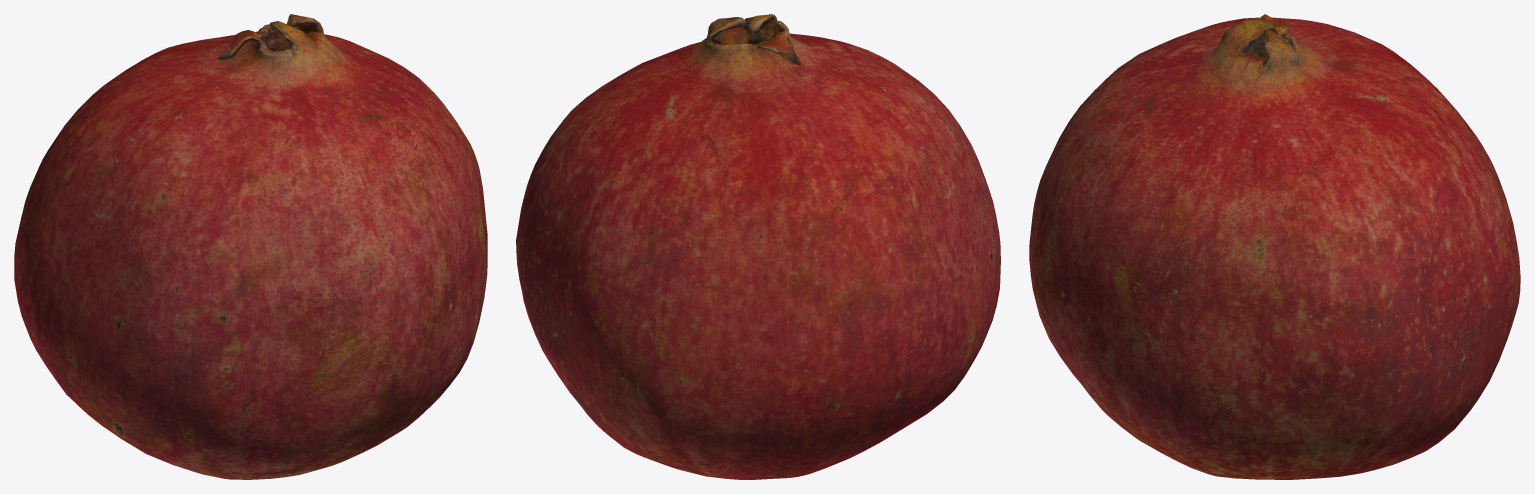
File: pomegranate.glb
3 views of the same model, side by side, from view 1: azimuth 30°, elevation 25°; view 2: azimuth 150°, elevation 25°; view 3: azimuth 270°, elevation 25° (orthographic). The views are drawn at different scales.
Parts seen in each view (by area): view 1: pomegranate; view 2: pomegranate; view 3: pomegranate.
Boxes of the visible parts, x1,y1,x2,y2 form: pomegranate: [14, 14, 487, 479]; pomegranate: [516, 14, 1000, 479]; pomegranate: [1029, 14, 1520, 479].
Bounding box in the file's own units: 0.1143 × 0.115 × 0.1154.
1 material, 1 textured.
